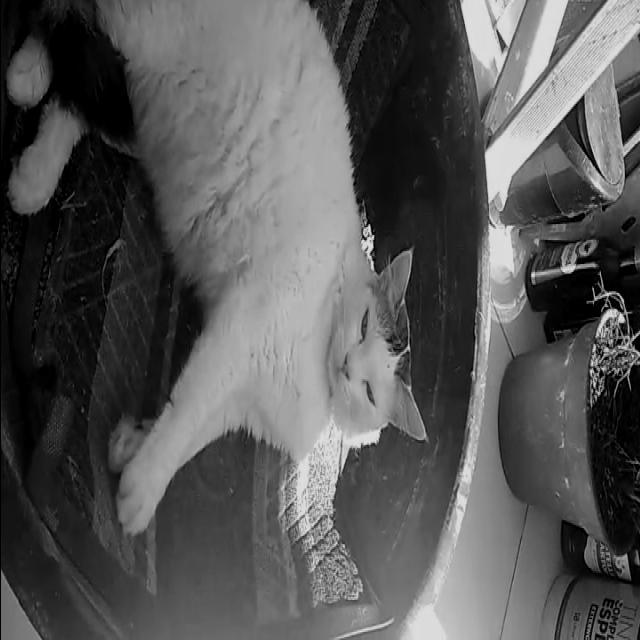Simba: (1, 0, 445, 555)
